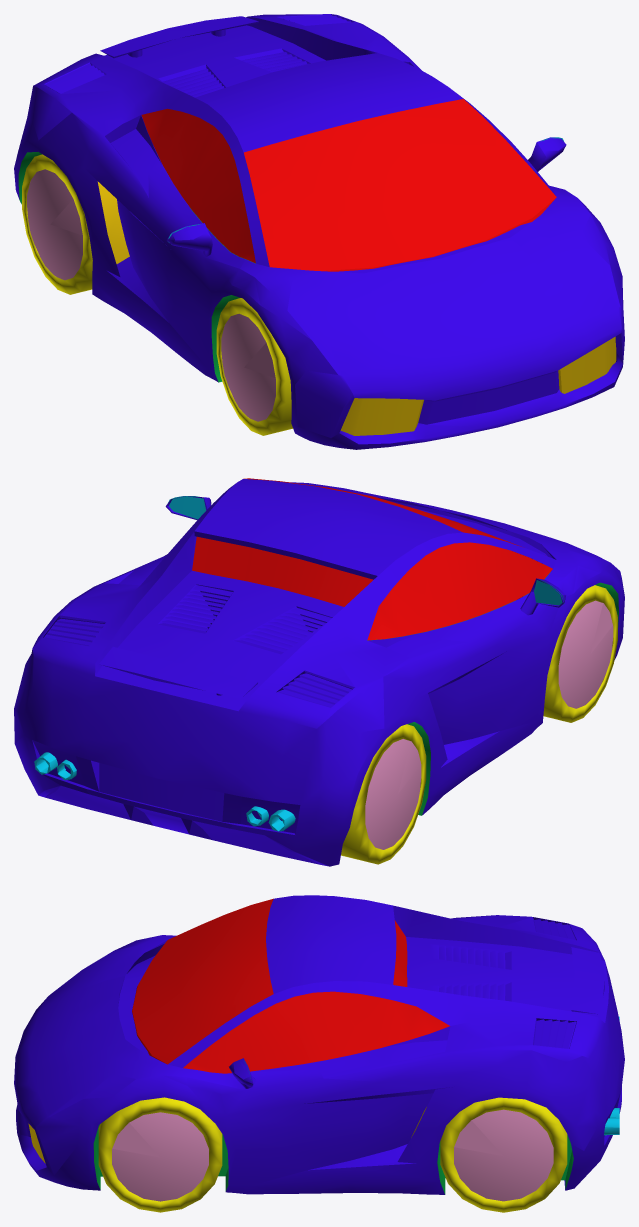
The model's file is Car01_Low_ColorCoded.fbx.
3 renders of one model, top to bottom at view 1: azimuth 30°, elevation 25°; view 2: azimuth 150°, elevation 25°; view 3: azimuth 270°, elevation 25°, orthographic. The views are drawn at different scales.
Visible parts, largest first — view 1: car_carBody, tireFrontR_low, tireBackR_low; view 2: car_carBody, tireBackR_low, tireFrontR_low; view 3: car_carBody, tireBackL_low, tireFrontL_low.
Boxes of the visible parts, <box> form: car_carBody: <box>14,14,624,449</box>; tireFrontR_low: <box>216,298,292,435</box>; tireBackR_low: <box>22,154,92,294</box>; car_carBody: <box>14,478,624,866</box>; tireBackR_low: <box>341,724,426,864</box>; tireFrontR_low: <box>543,585,617,722</box>; car_carBody: <box>14,895,624,1194</box>; tireBackL_low: <box>440,1097,567,1212</box>; tireFrontL_low: <box>98,1097,222,1212</box>.
Size of the model in its own units: 74.14 by 111 by 41.58.
